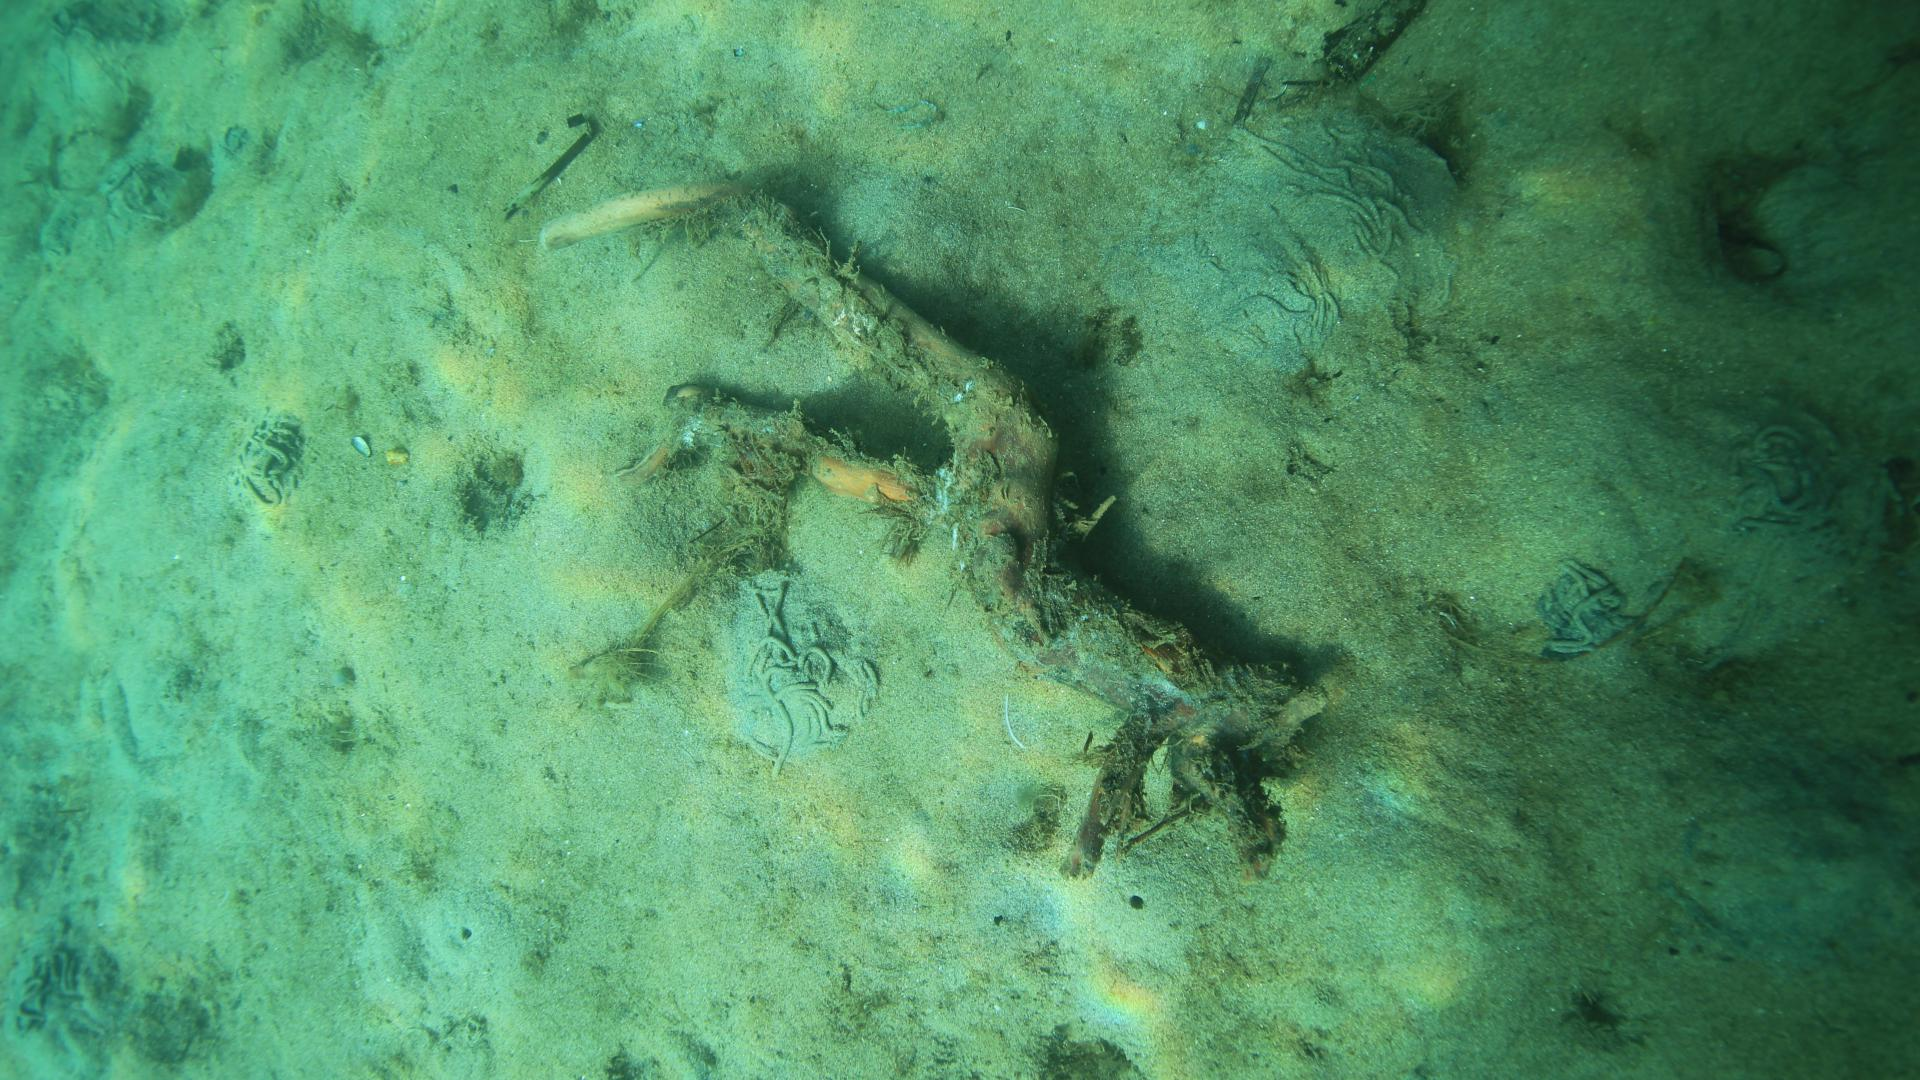wood: (535, 179, 1327, 881)
